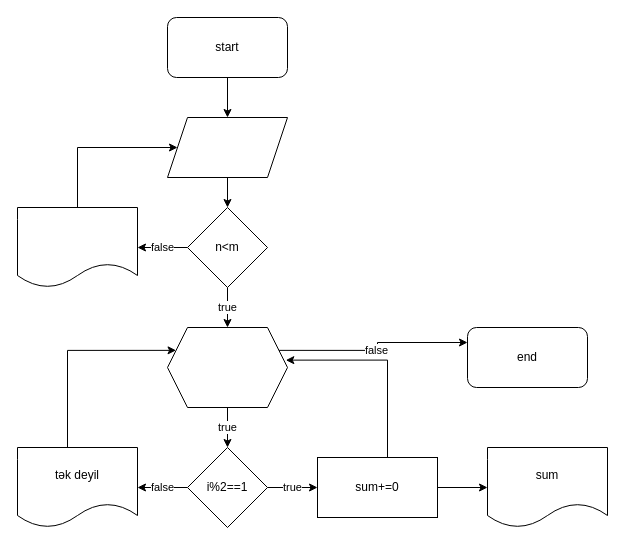
The diagram is 625 pixels wide and 545 high, and some of its shapes have lost their labels. Each missing label, with the centre of its shape:
"düzgün daxil edilməyib" goes at pixel 77 247.
"i=n,i<m,i++" goes at pixel 227 367.
"n,m,sum=0" goes at pixel 227 147.
